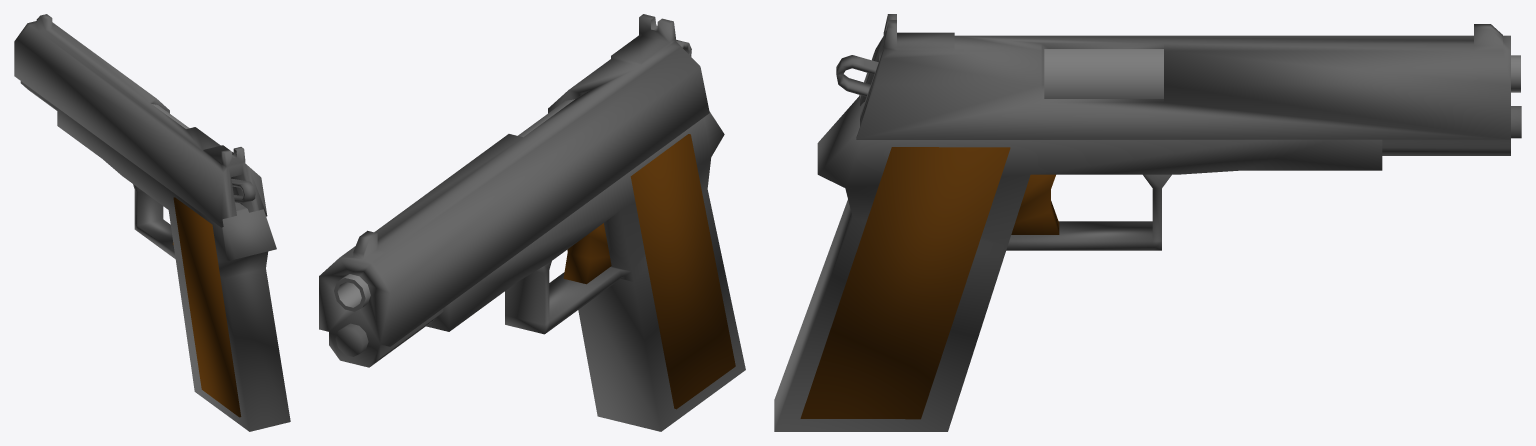
3 views of the same model, side by side, from view 1: azimuth 30°, elevation 25°; view 2: azimuth 150°, elevation 25°; view 3: azimuth 270°, elevation 25° (orthographic). The views are drawn at different scales.
Visible parts, largest first — view 1: M1911.2, Slide; view 2: M1911.2, Slide; view 3: M1911.2, Slide.
Part boxes in pixels (<box>): M1911.2: <box>57,104,290,431</box>; Slide: <box>14,14,267,227</box>; M1911.2: <box>334,39,745,431</box>; Slide: <box>319,14,709,367</box>; M1911.2: <box>774,49,1521,431</box>; Slide: <box>856,14,1510,155</box>.
Bounding box in the file's own units: 29.3 × 152 × 259.
